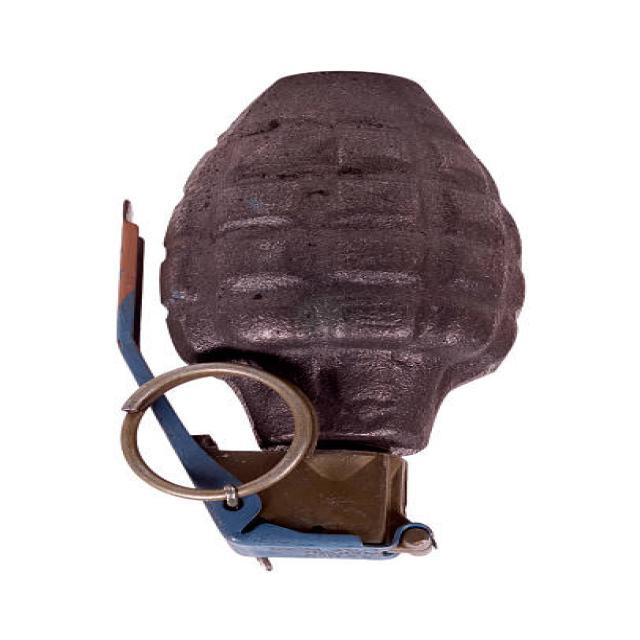grenade: (107, 66, 541, 582)
